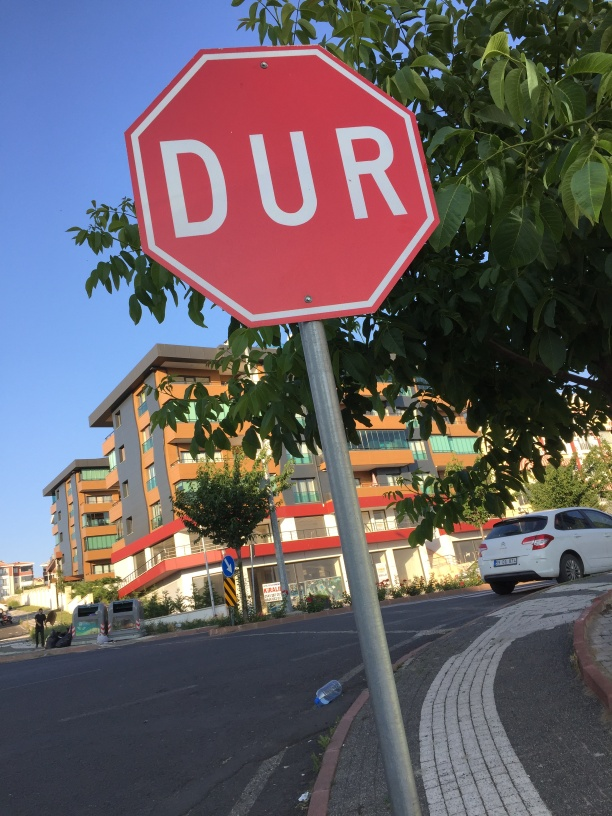arac_dur_isareti: (116, 24, 449, 536)
